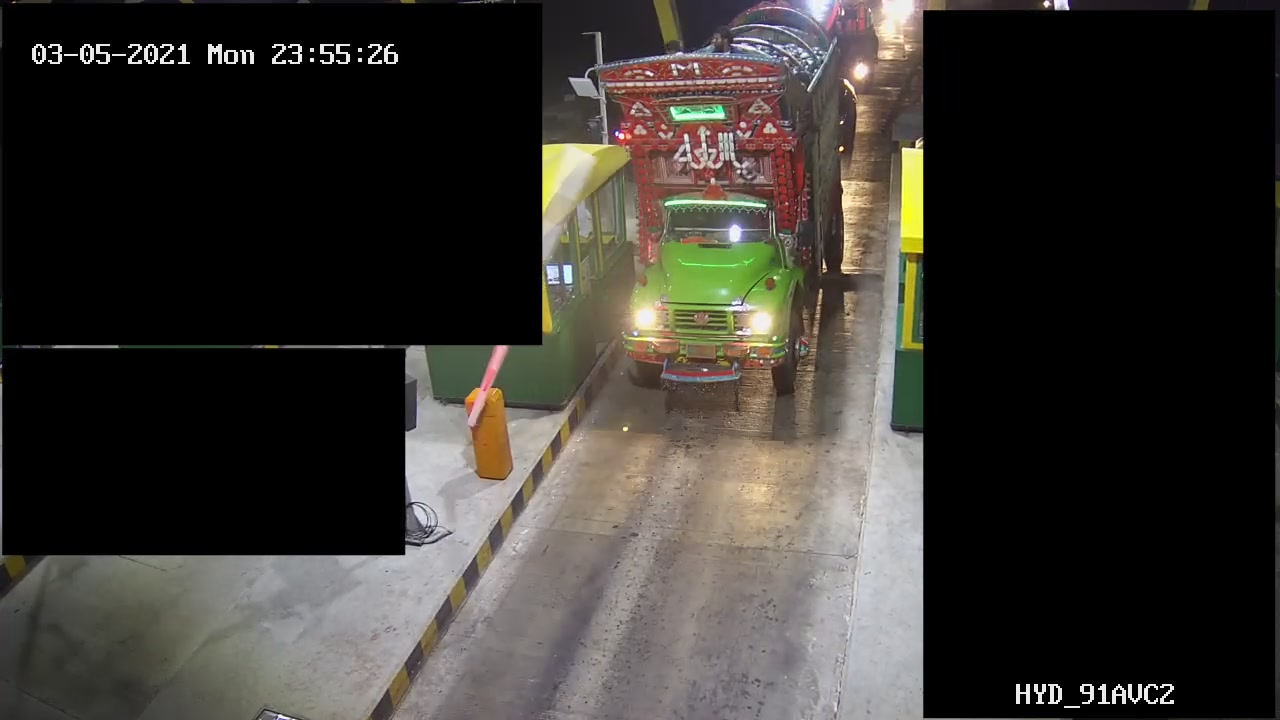F5: (587, 3, 838, 427)
